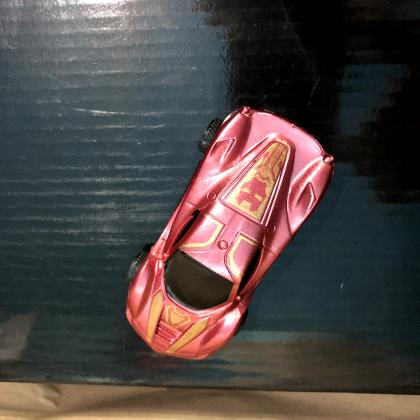Car: (124, 104, 336, 362)
